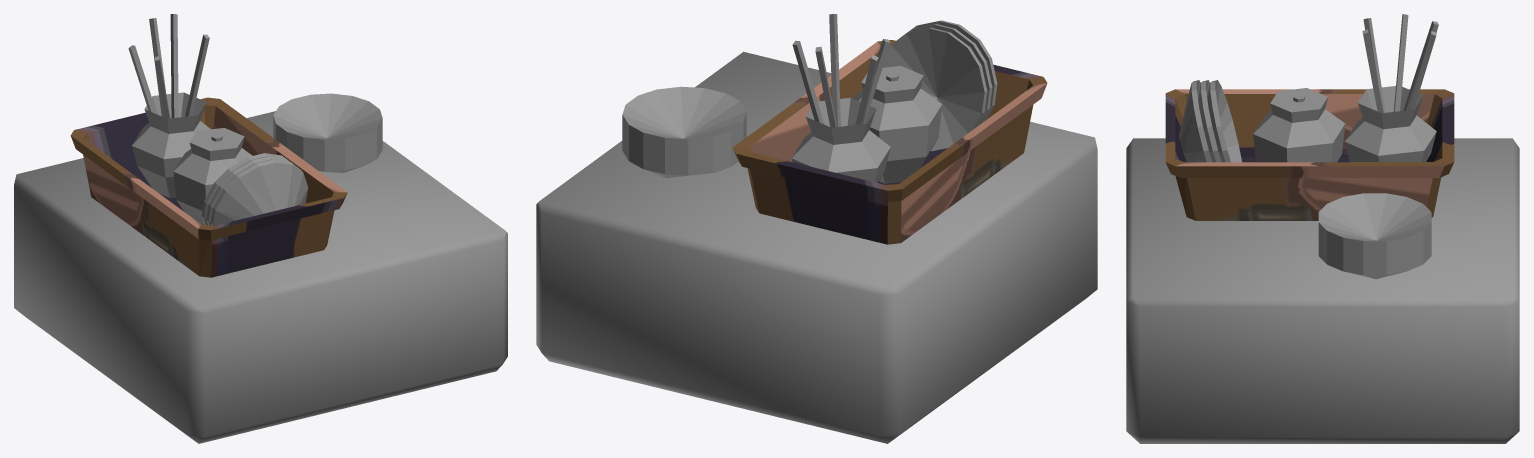
Rendered from jj-shuinitai2.FBX.
3 renders of one model, left to right at view 1: azimuth 30°, elevation 25°; view 2: azimuth 150°, elevation 25°; view 3: azimuth 270°, elevation 25°, orthographic. The views are drawn at different scales.
Visible parts, largest first — view 1: jj-shuinitai2_d, jj-shuinitai2_a, jj-shuinitai2_b, jj-shuinitai2_e, jj-shuinitai2_f, jj-shuinitai2_c; view 2: jj-shuinitai2_d, jj-shuinitai2_a, jj-shuinitai2_b, jj-shuinitai2_e, jj-shuinitai2_f, jj-shuinitai2_c; view 3: jj-shuinitai2_d, jj-shuinitai2_a, jj-shuinitai2_b, jj-shuinitai2_e, jj-shuinitai2_c, jj-shuinitai2_f.
Part boxes in pixels (x1=…): jj-shuinitai2_d: x1=14, y1=111, x2=507, y2=443; jj-shuinitai2_a: x1=70, y1=97, x2=347, y2=277; jj-shuinitai2_b: x1=273, y1=93, x2=382, y2=172; jj-shuinitai2_e: x1=128, y1=14, x2=210, y2=197; jj-shuinitai2_f: x1=201, y1=153, x2=308, y2=225; jj-shuinitai2_c: x1=173, y1=128, x2=252, y2=224; jj-shuinitai2_d: x1=536, y1=51, x2=1097, y2=443; jj-shuinitai2_a: x1=732, y1=40, x2=1047, y2=244; jj-shuinitai2_b: x1=622, y1=86, x2=746, y2=178; jj-shuinitai2_e: x1=791, y1=14, x2=890, y2=182; jj-shuinitai2_f: x1=882, y1=20, x2=997, y2=151; jj-shuinitai2_c: x1=853, y1=66, x2=942, y2=183; jj-shuinitai2_d: x1=1126, y1=138, x2=1519, y2=443; jj-shuinitai2_a: x1=1165, y1=89, x2=1454, y2=220; jj-shuinitai2_b: x1=1318, y1=193, x2=1431, y2=278; jj-shuinitai2_e: x1=1344, y1=14, x2=1438, y2=162; jj-shuinitai2_c: x1=1253, y1=88, x2=1345, y2=162; jj-shuinitai2_f: x1=1179, y1=80, x2=1241, y2=162.
Bounding box in the file's own units: 74.43 × 74.98 × 67.21.
